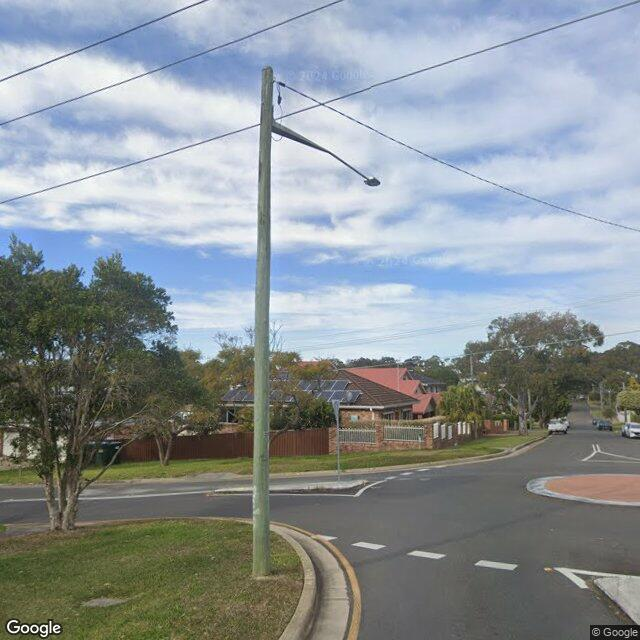streetlight: (269, 123, 381, 186)
timber-pole: (252, 65, 277, 579), (470, 351, 477, 441)
